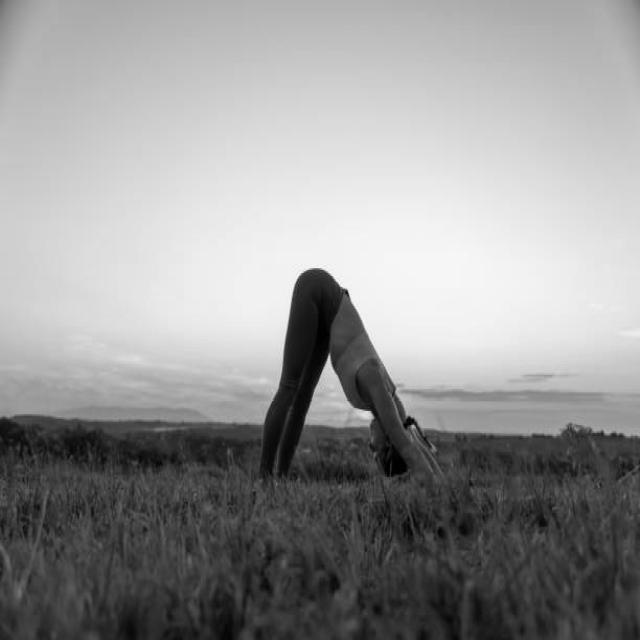Downward-Facing_Dog: (249, 263, 458, 496)
